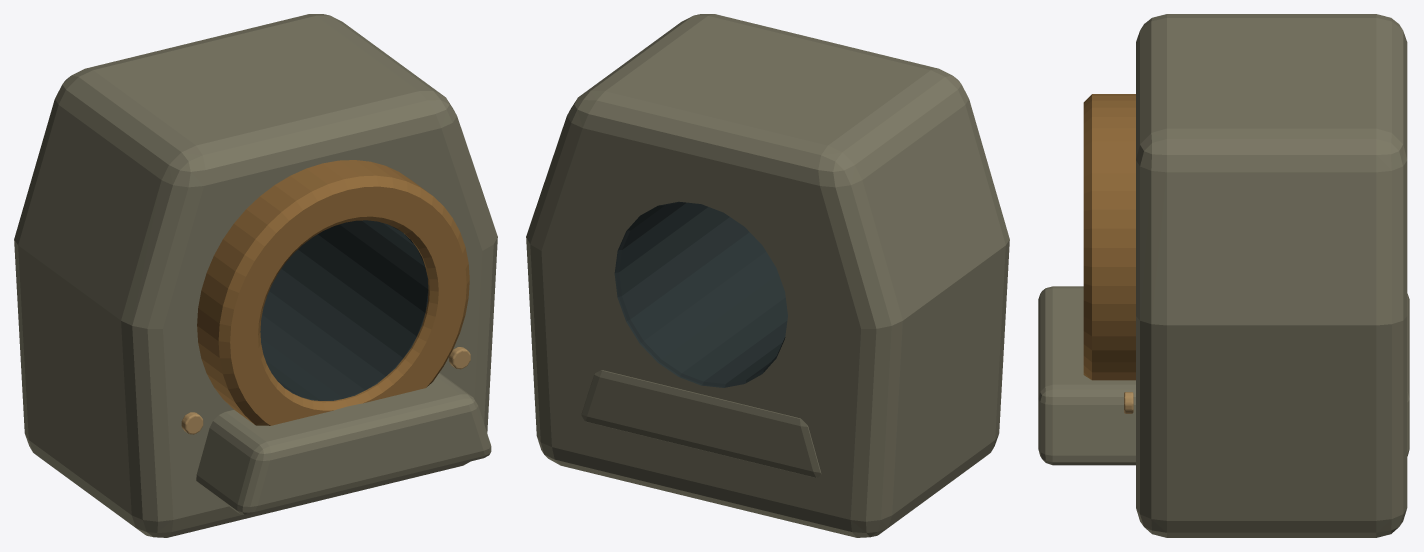
The model's file is WATER_SPOUT.hi.glb.
3 views of the same model, side by side, from view 1: azimuth 30°, elevation 25°; view 2: azimuth 150°, elevation 25°; view 3: azimuth 270°, elevation 25° (orthographic).
Visible parts, largest first — view 1: Body_Mesh; view 2: Body_Mesh; view 3: Body_Mesh.
Boxes of the visible parts, x1,y1,x2,y2 form: Body_Mesh: (14, 14, 497, 537); Body_Mesh: (526, 14, 1009, 537); Body_Mesh: (1038, 14, 1409, 537).
Bounding box in the file's own units: 0.92 × 0.9 × 0.78.
